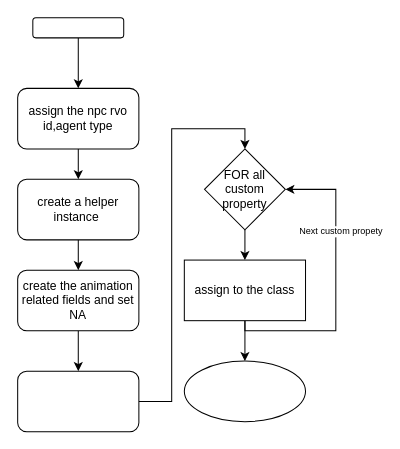
This 400x449 diagram has some shape labels left out. Each missing label, with the centre of its shape:
assign property: (x=78, y=401)
end: (x=244, y=391)
start: (x=78, y=27)
